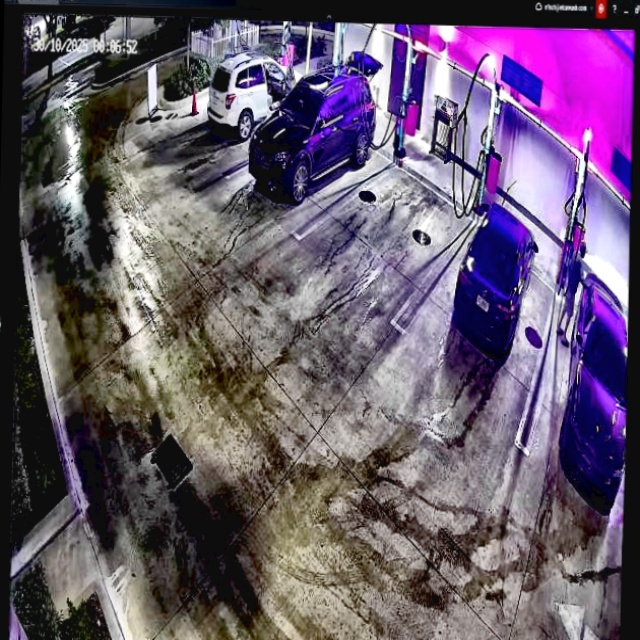Car: (249, 67, 377, 205), (453, 203, 539, 353)
